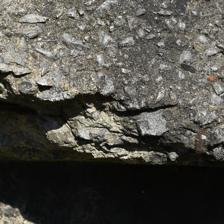Crack: (2, 33, 185, 89)
